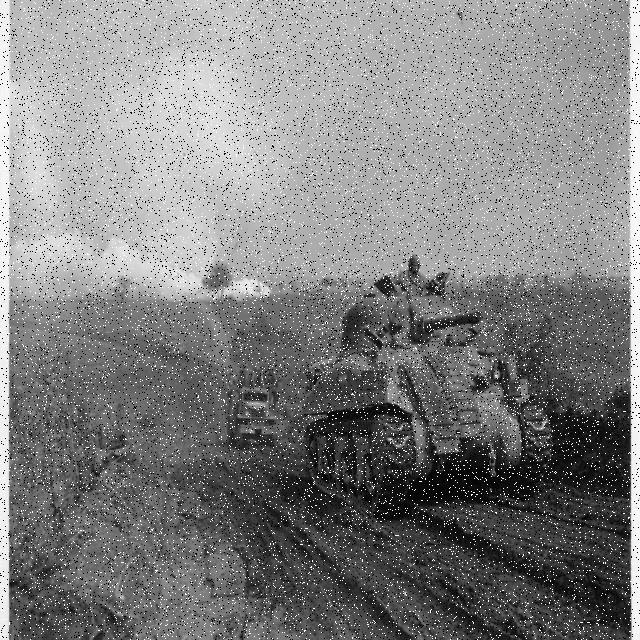MIL_MBT: (301, 271, 555, 522)
